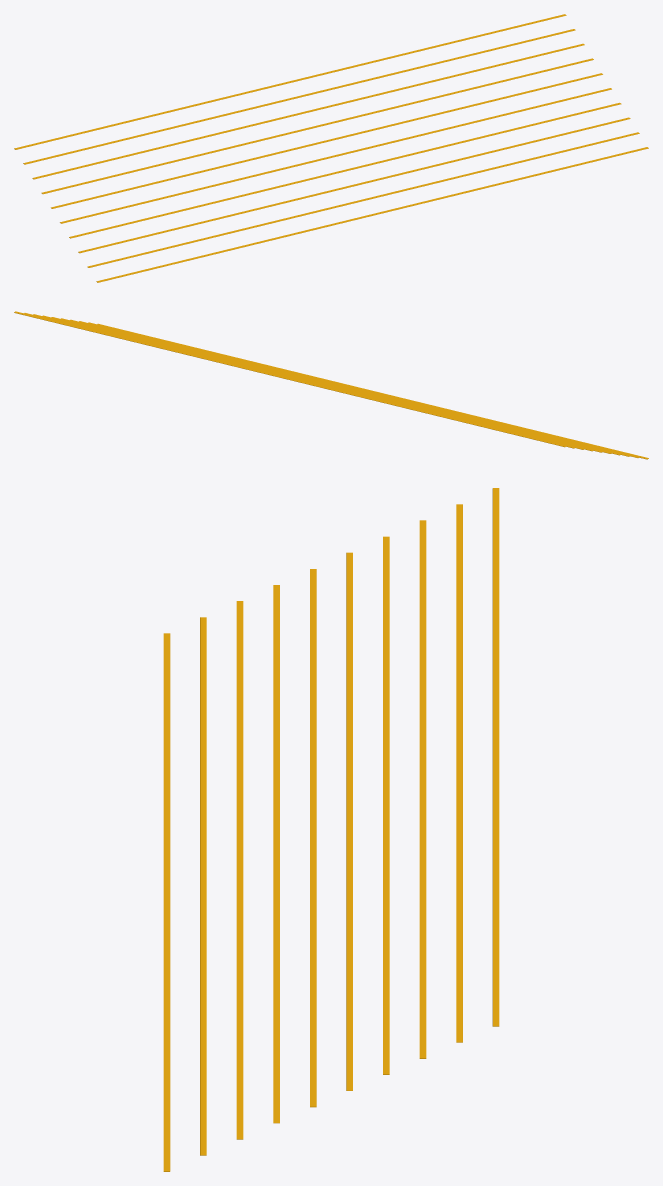
Rendered from gteki_ik_stair_n10_r147_t302_w10522_nosing.glb.
3 renders of one model, top to bottom at view 1: azimuth 30°, elevation 25°; view 2: azimuth 150°, elevation 25°; view 3: azimuth 270°, elevation 25°, orthographic. The views are drawn at different scales.
Visible parts, largest first — view 1: VIS_nosings; view 2: VIS_nosings; view 3: VIS_nosings.
Part boxes in pixels (bbox=[...]): VIS_nosings: bbox=[14, 14, 648, 282]; VIS_nosings: bbox=[14, 311, 648, 459]; VIS_nosings: bbox=[163, 488, 499, 1171].
Size of the model in its own units: 10.51 by 1.33 by 2.77.
